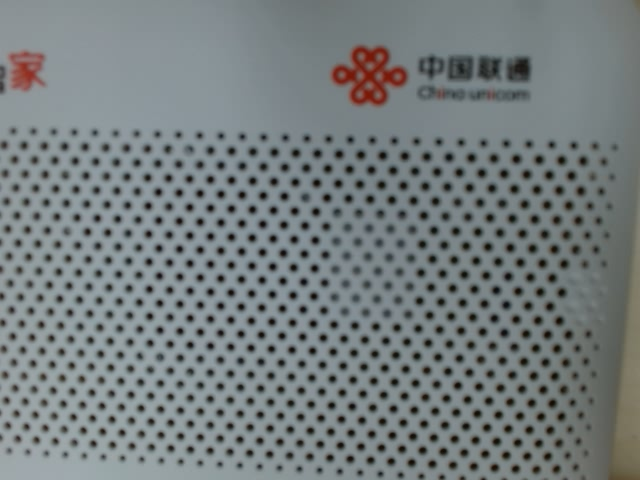ChinaUnicom2: (325, 27, 546, 118)
